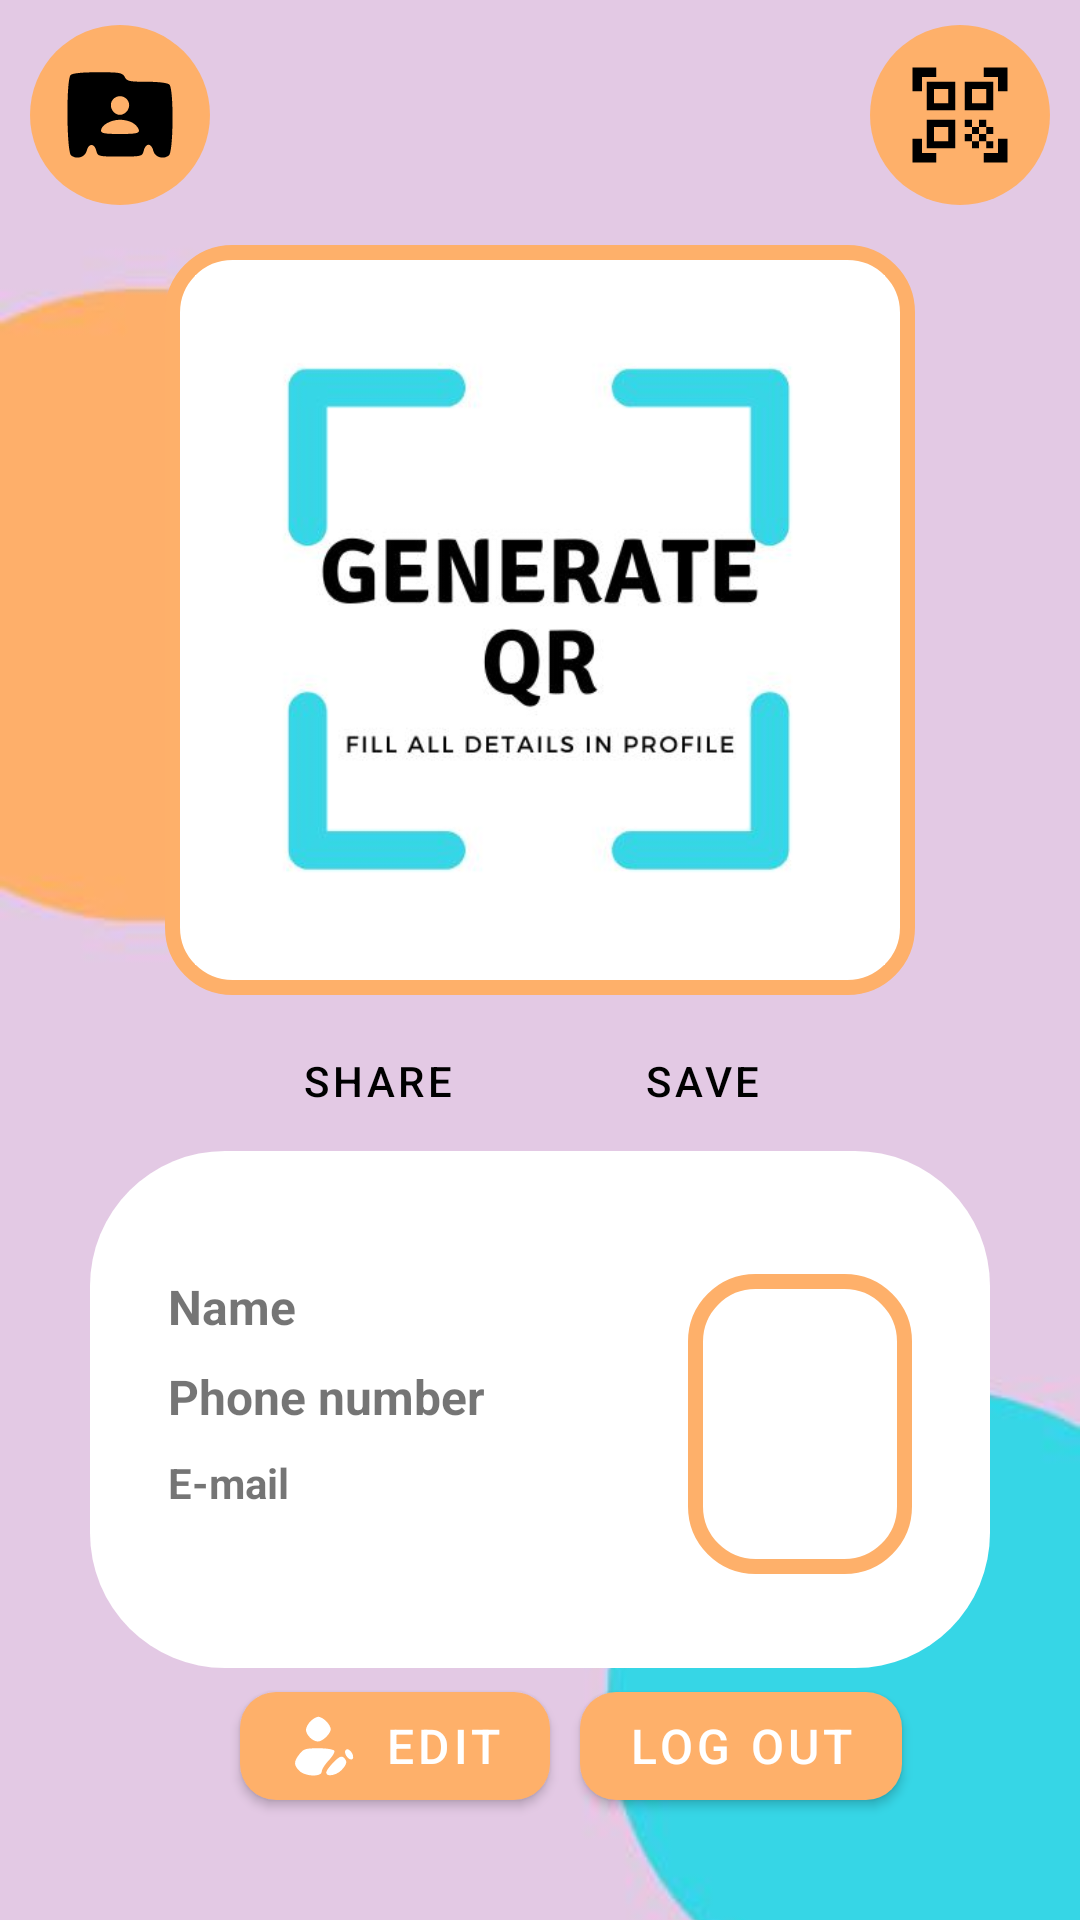

Icons on this 1080 × 1920 Android screen, each with its box as detection(x1, y1, x2, y2):
contact: detection(30, 25, 210, 205)
qr code scanner: detection(870, 25, 1050, 205)
